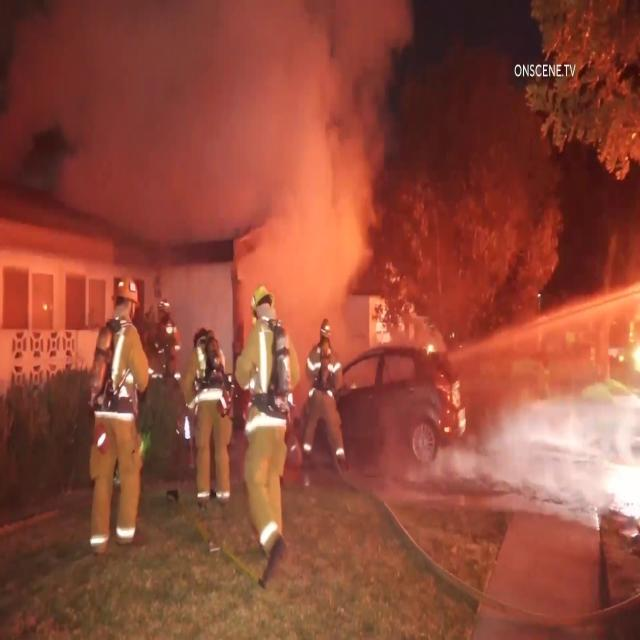smoke: (3, 2, 506, 234)
